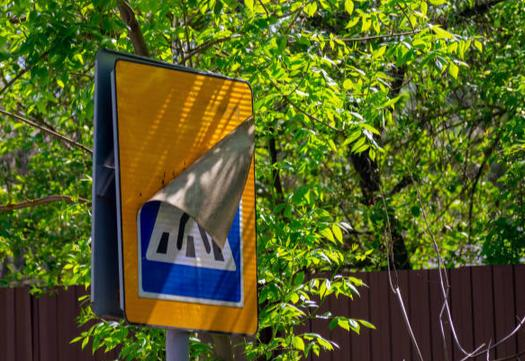obstructed_road_sign: (116, 59, 256, 334)
